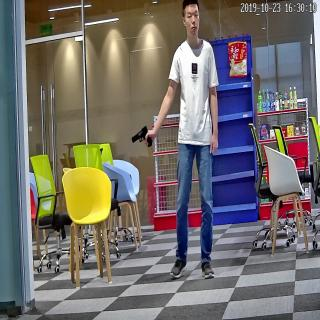gun: (132, 123, 150, 150)
